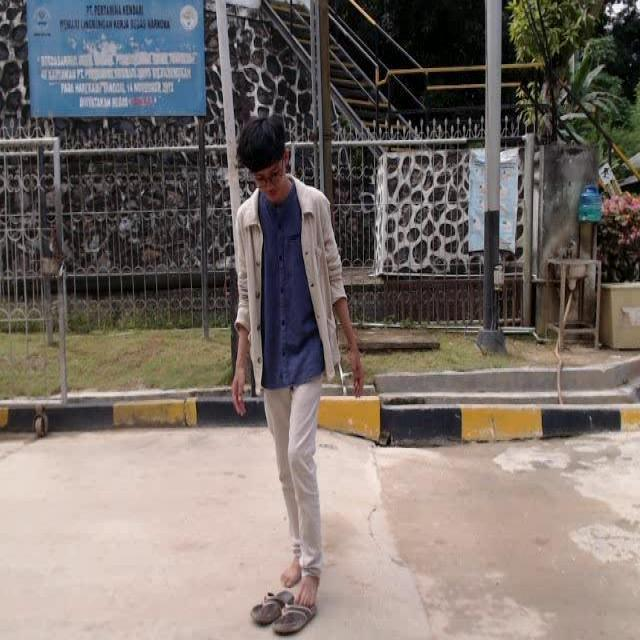no_vest: (224, 182, 354, 389)
